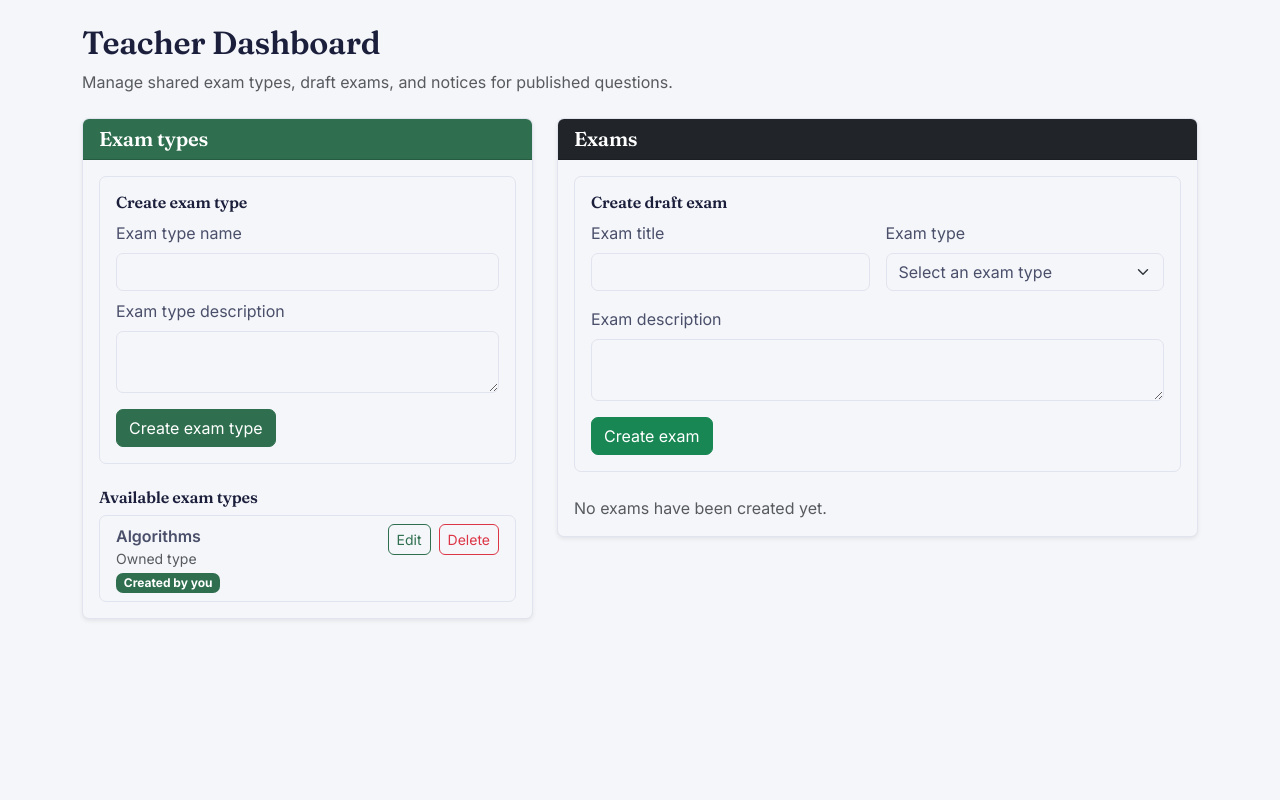
it: exam-type management › edits an owned exam type and can cancel without saving
Check: the heading "Exam types" is shown, box [99, 126, 208, 151]
Click the button "Edit".
click(409, 539)  # box [388, 524, 431, 555]
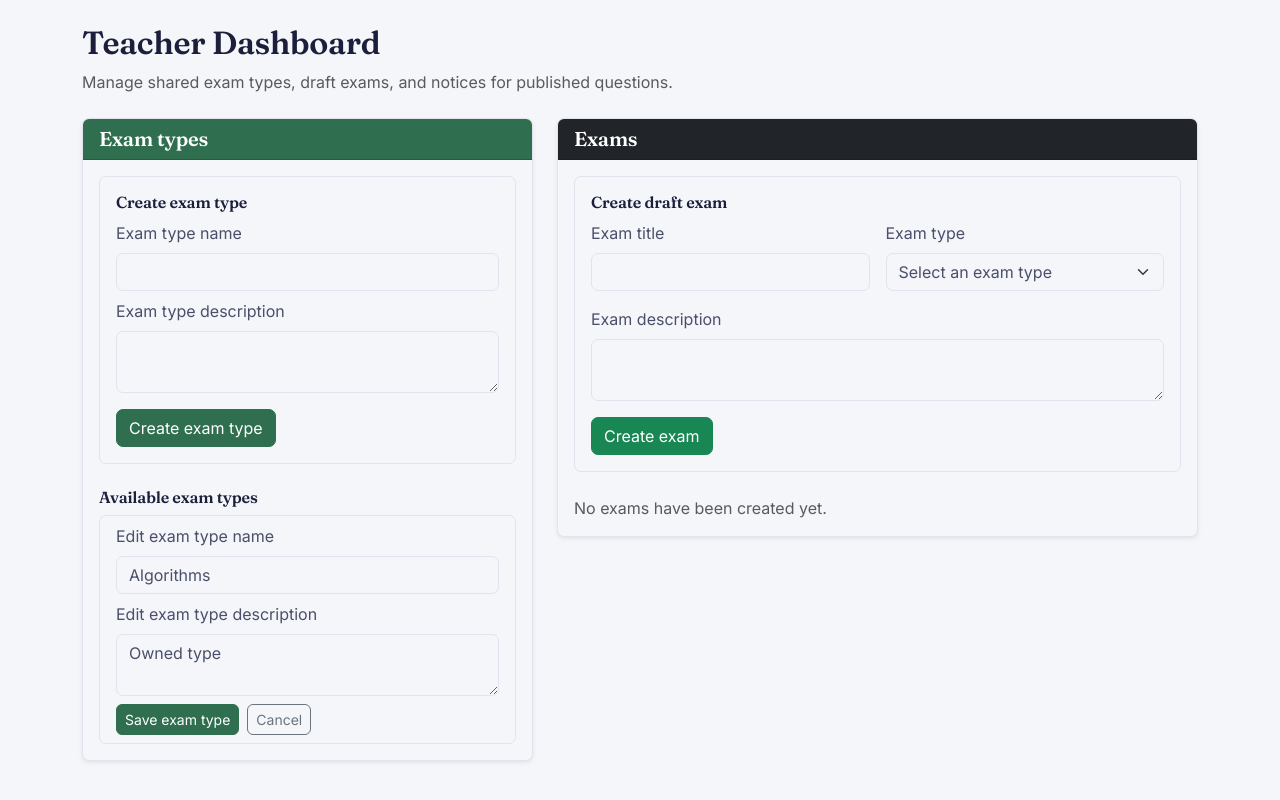
Check: the field labelled "Edit exam type name" holds "Algorithms"
Replace the text in the field labelled "Edit exam type name" with "Discarded edit" at (308, 575), box [116, 556, 499, 594]
Click the button "Cancel".
click(279, 719)  # box [247, 704, 311, 735]
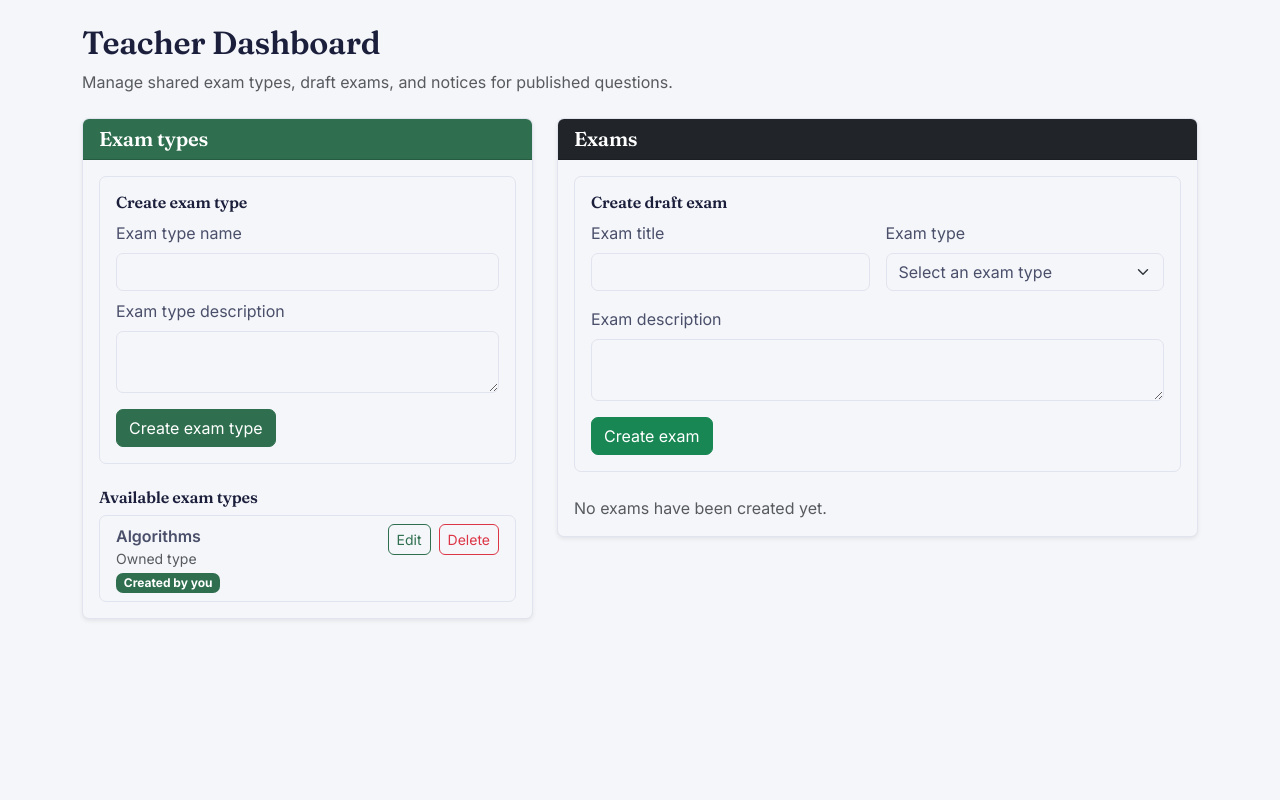
Check: the text "Algorithms" is shown, box [116, 526, 201, 546]
Click the button "Edit".
click(409, 539)  # box [388, 524, 431, 555]
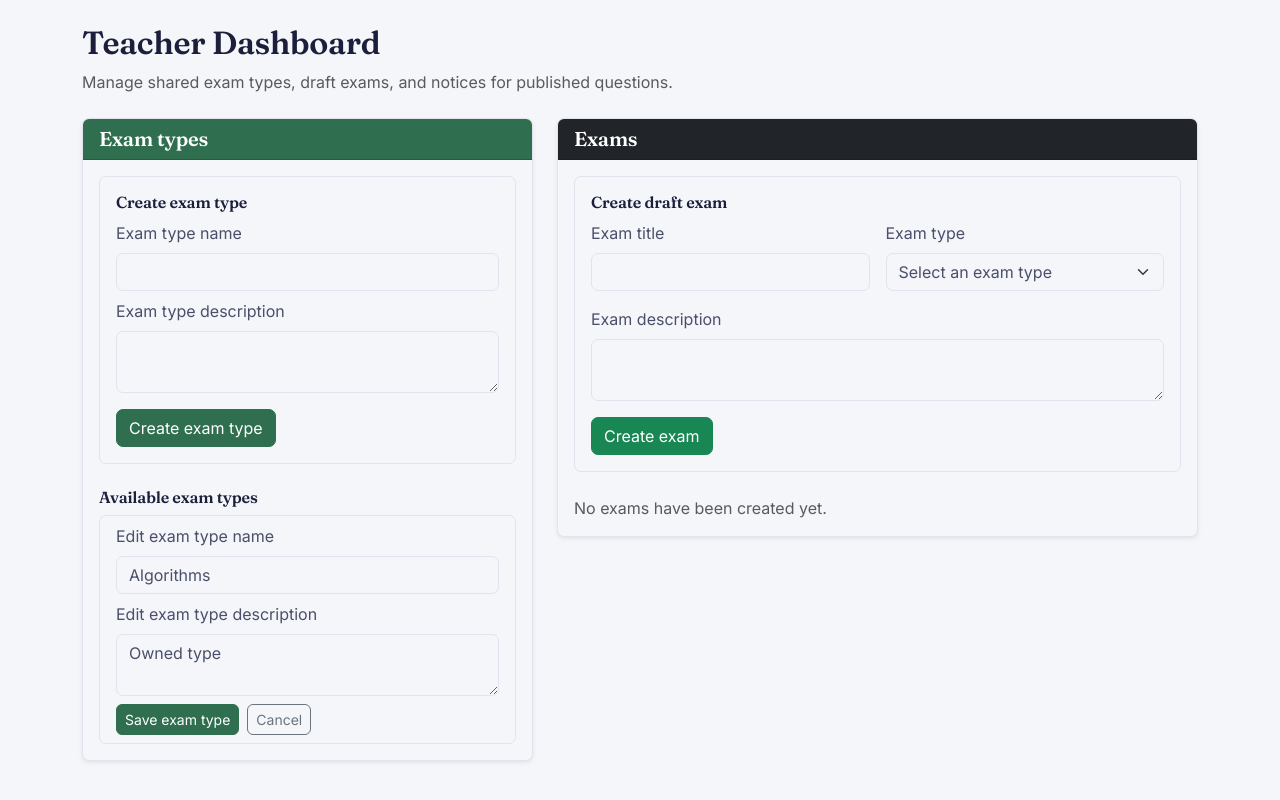
Replace the text in the field labelled "Edit exam type name" with " Advanced algorithms " at (308, 575), box [116, 556, 499, 594]
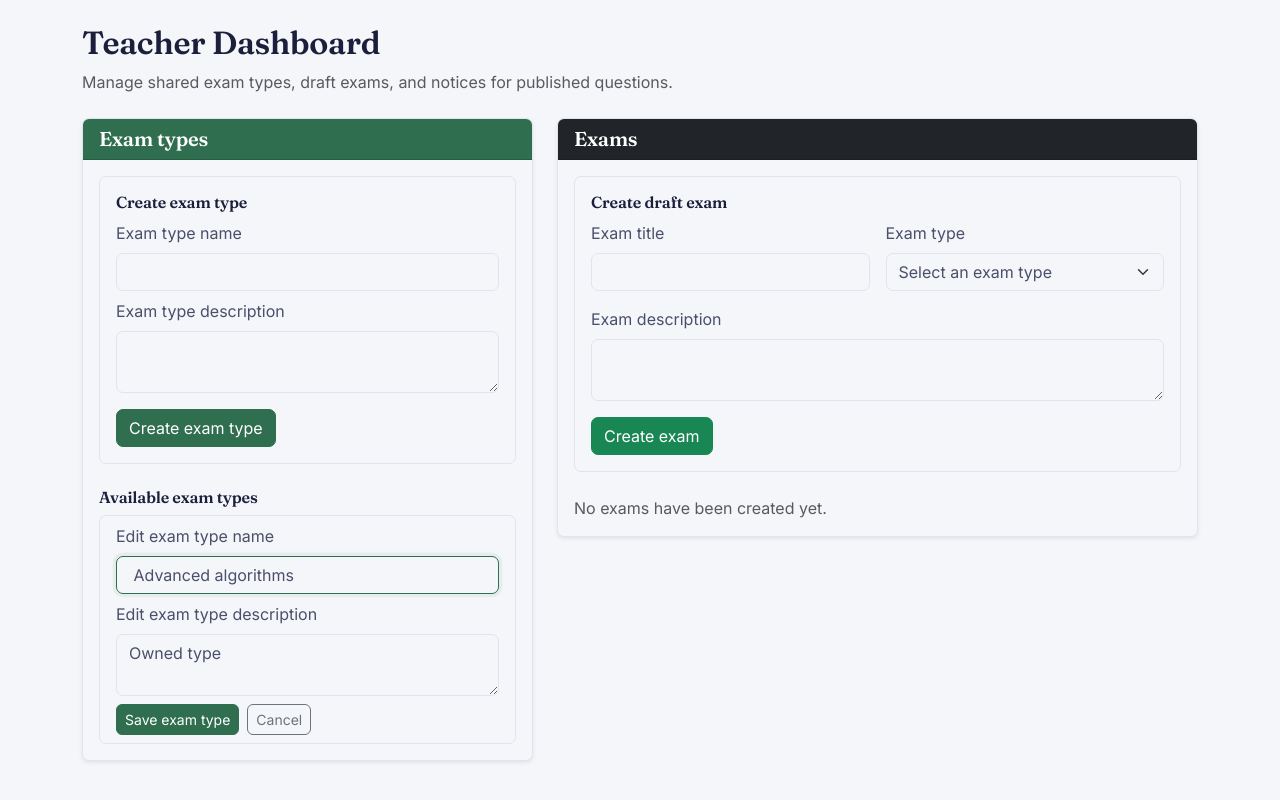
Replace the text in the text box labelled "Edit exam type description" with " Updated curriculum " at (308, 665), box [116, 634, 499, 696]
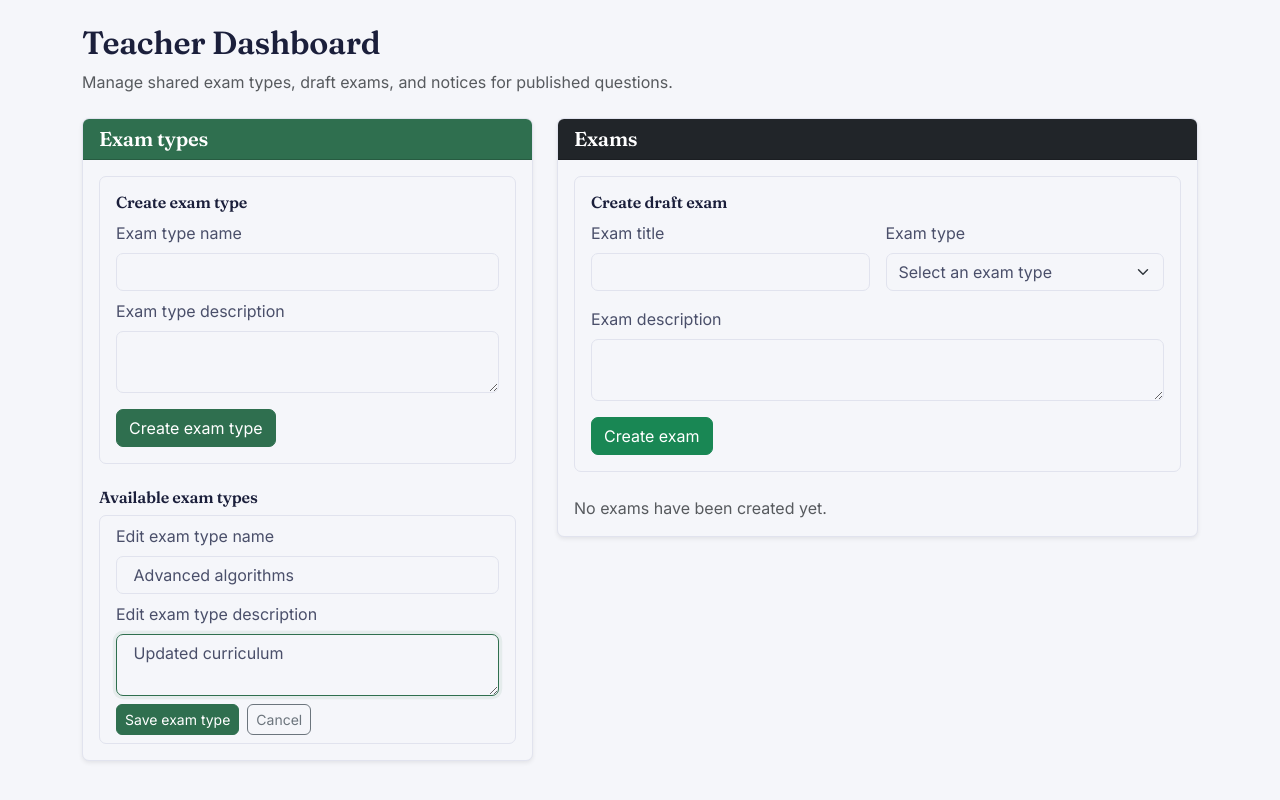
Click the button "Save exam type".
click(178, 719)  # box [116, 704, 239, 735]
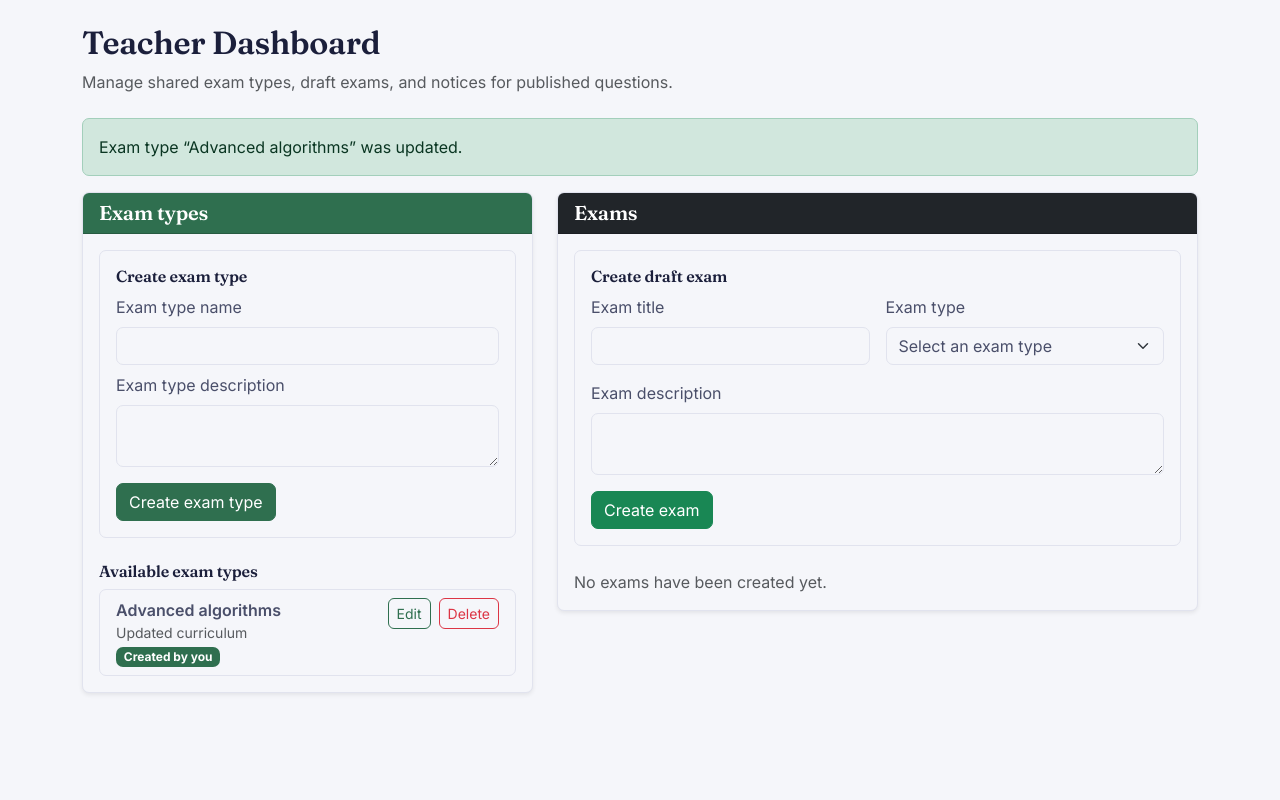
Check: the text "Advanced algorithms" is shown, box [116, 598, 281, 622]
Check: the message reads "Exam type “Advanced algorithms” was updated.", box [99, 137, 462, 157]
